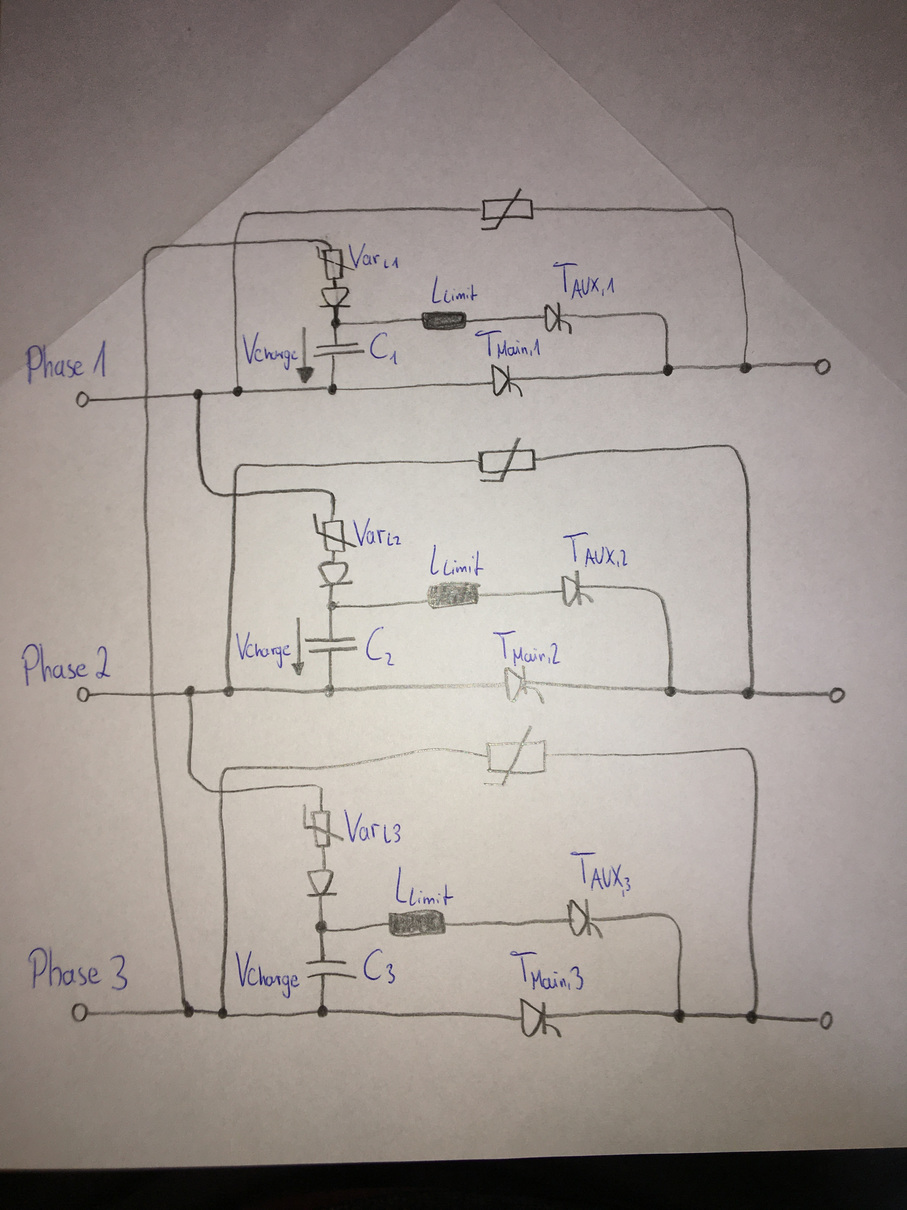capacitor.unpolarized: (304, 957, 358, 982), (303, 634, 360, 655), (313, 340, 366, 360)
crossover: (144, 688, 162, 702), (228, 489, 243, 501), (140, 391, 153, 404), (229, 237, 241, 248), (214, 787, 227, 797)
diode: (316, 559, 355, 591), (304, 867, 339, 899), (318, 285, 353, 310)
inductor: (386, 907, 448, 939), (425, 580, 482, 610), (420, 310, 468, 332)
junction: (724, 440, 746, 470), (197, 474, 218, 497), (645, 586, 668, 606), (662, 910, 682, 932), (178, 999, 197, 1019), (313, 918, 333, 936), (740, 744, 758, 764), (186, 770, 204, 789), (740, 684, 759, 702), (671, 1006, 688, 1026), (140, 243, 157, 262), (318, 486, 338, 502), (235, 209, 253, 226), (182, 683, 199, 700), (744, 1008, 760, 1026), (662, 684, 680, 700), (660, 361, 676, 379), (322, 682, 338, 699), (325, 598, 342, 614), (653, 309, 670, 325), (719, 204, 736, 220), (738, 360, 754, 376), (315, 1003, 330, 1020), (221, 684, 236, 700), (325, 381, 340, 397), (215, 1004, 229, 1020), (231, 384, 245, 399), (231, 461, 245, 476), (191, 387, 205, 401), (219, 764, 232, 779), (312, 779, 326, 792), (329, 316, 342, 330), (318, 237, 333, 245)
terminal: (69, 1000, 92, 1024), (813, 1009, 835, 1032), (825, 684, 847, 706), (812, 356, 833, 377), (73, 388, 92, 409), (75, 684, 94, 704)
text: (26, 944, 129, 995), (18, 640, 112, 688), (23, 336, 109, 386), (233, 948, 303, 1000), (509, 948, 587, 993), (568, 849, 633, 899), (491, 628, 563, 667), (393, 864, 456, 908), (562, 530, 630, 570), (551, 260, 617, 301), (241, 330, 300, 372), (342, 807, 403, 846), (234, 630, 294, 669), (474, 328, 543, 359), (428, 543, 485, 580), (351, 516, 403, 550), (429, 274, 478, 306), (361, 946, 398, 987), (347, 242, 400, 270), (364, 624, 397, 668), (368, 331, 400, 367)
thyristor: (518, 996, 563, 1038), (566, 897, 605, 938), (503, 665, 545, 703), (560, 570, 594, 609), (490, 363, 525, 397), (543, 301, 574, 334)
varistor: (483, 725, 548, 787), (476, 435, 539, 485), (480, 187, 536, 232), (301, 802, 345, 850), (311, 512, 358, 554), (314, 245, 356, 281)
